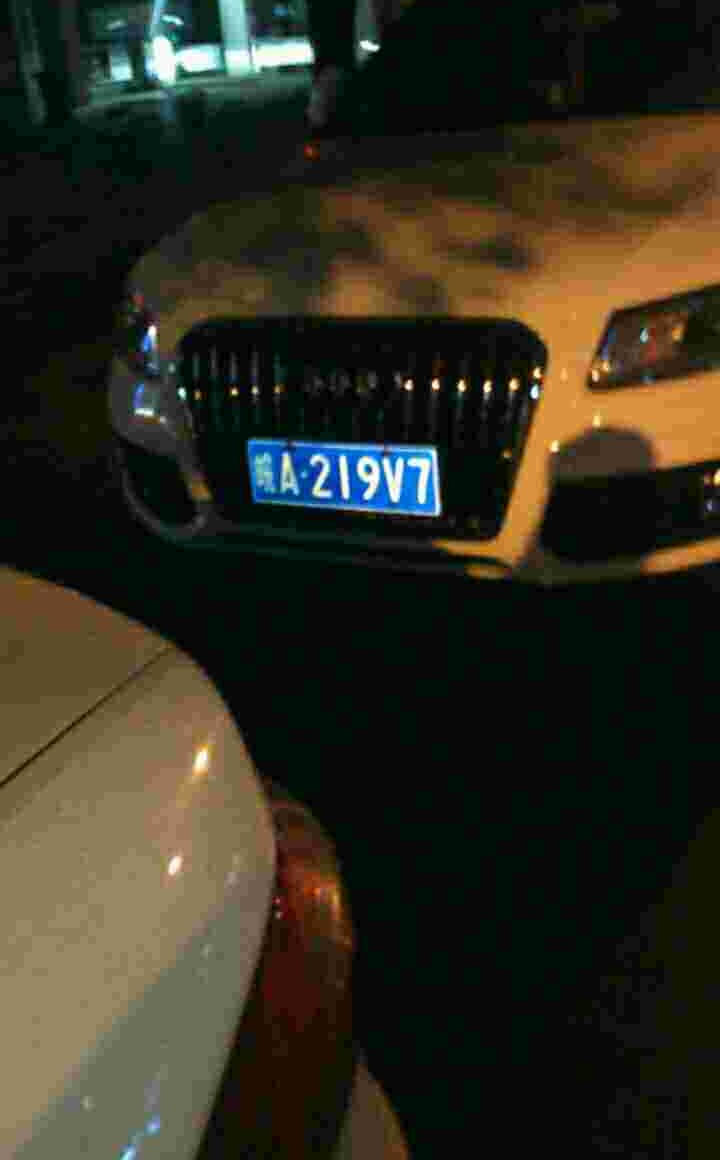license_plate: (253, 439, 444, 516)
